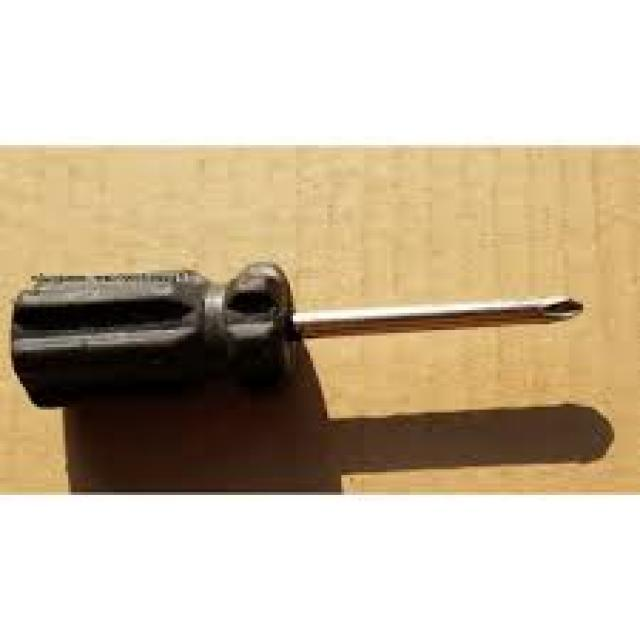screwdriver: (7, 252, 596, 416)
